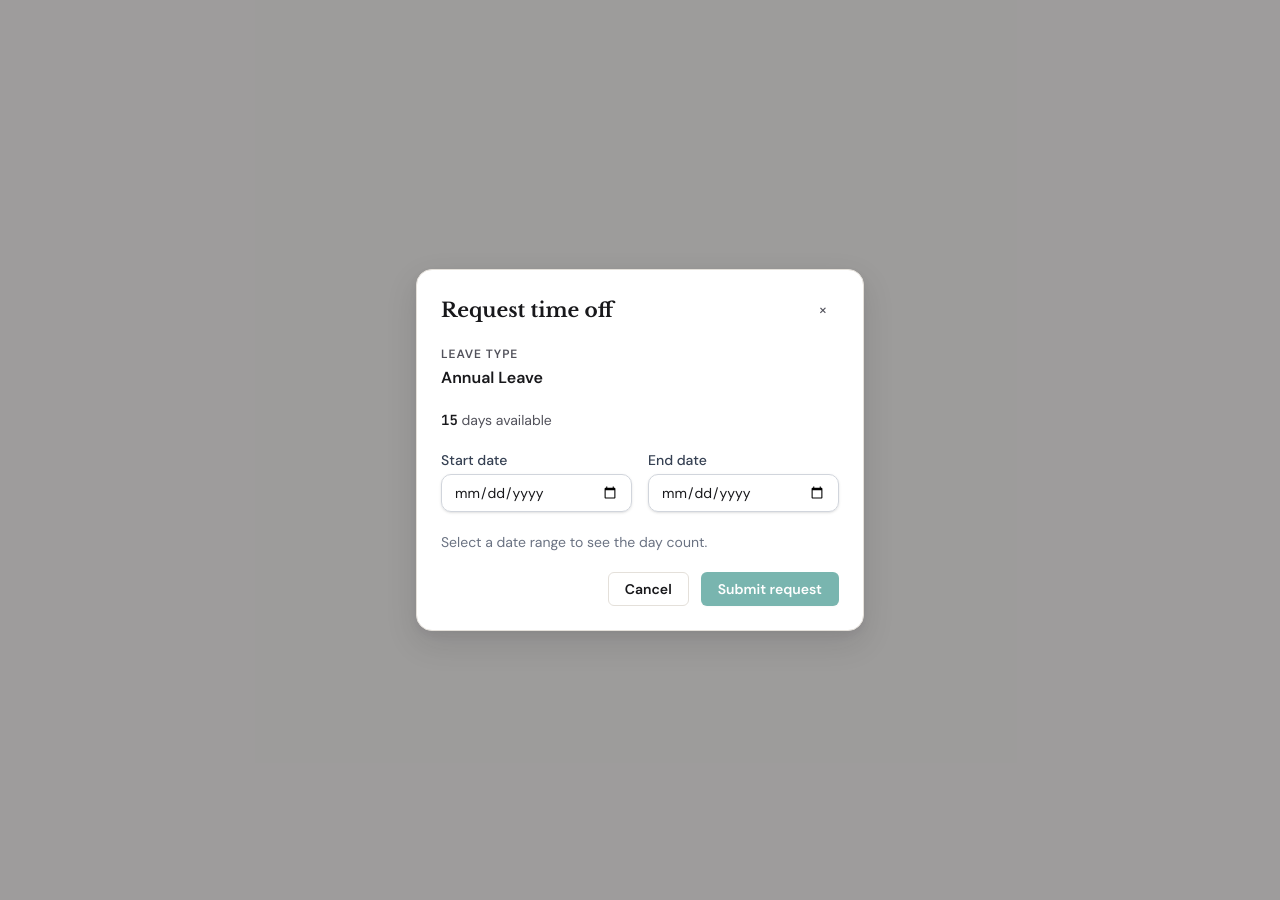
Test: RequestModal › submit button is disabled when days exceed available balance (Gap B pre-validation)
Type "2026-06-01" into the date field labelled "Start date" at (536, 493), box left=441, top=474, right=632, bottom=512
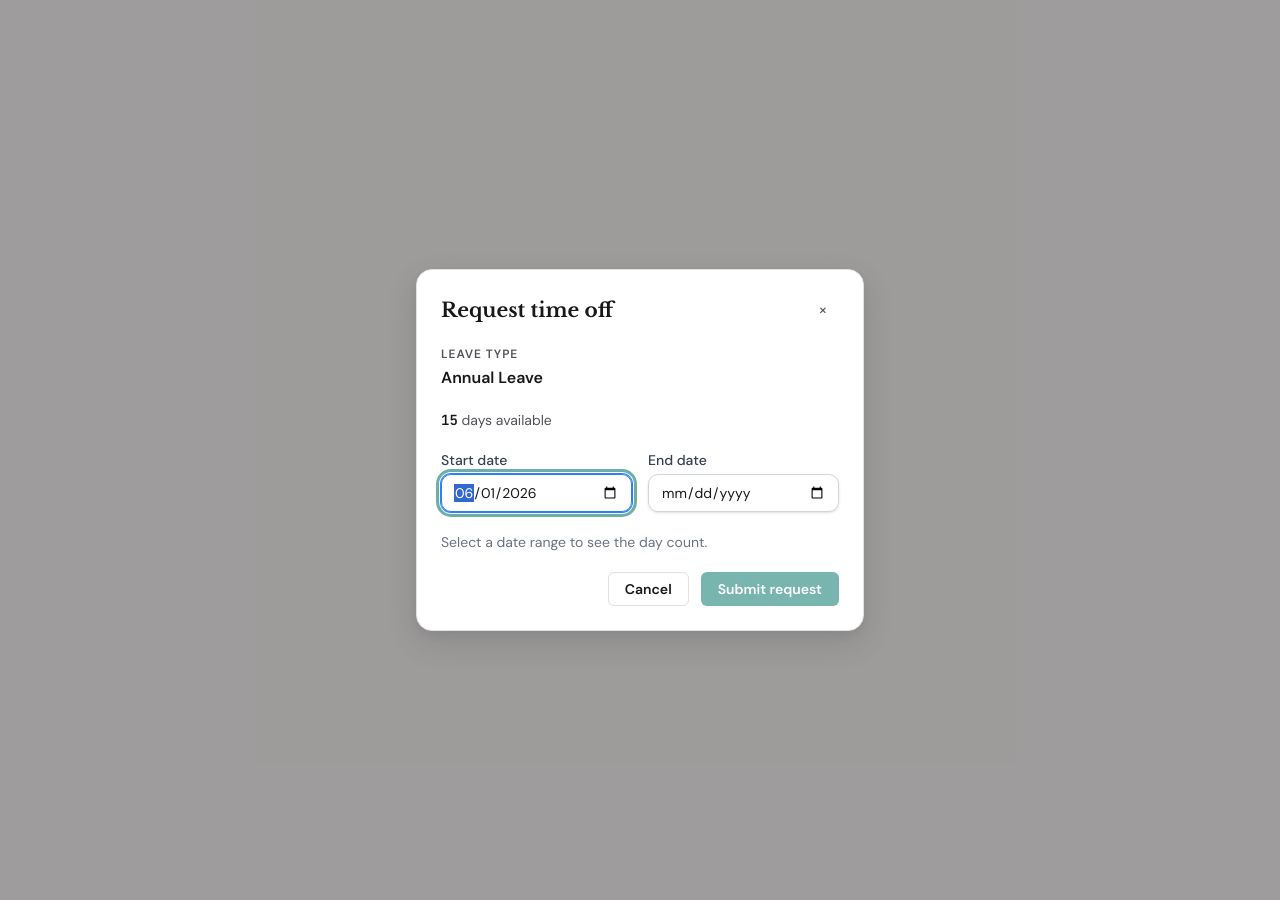
Type "2026-06-30" into the date field labelled "End date" at (744, 493), box left=648, top=474, right=839, bottom=512
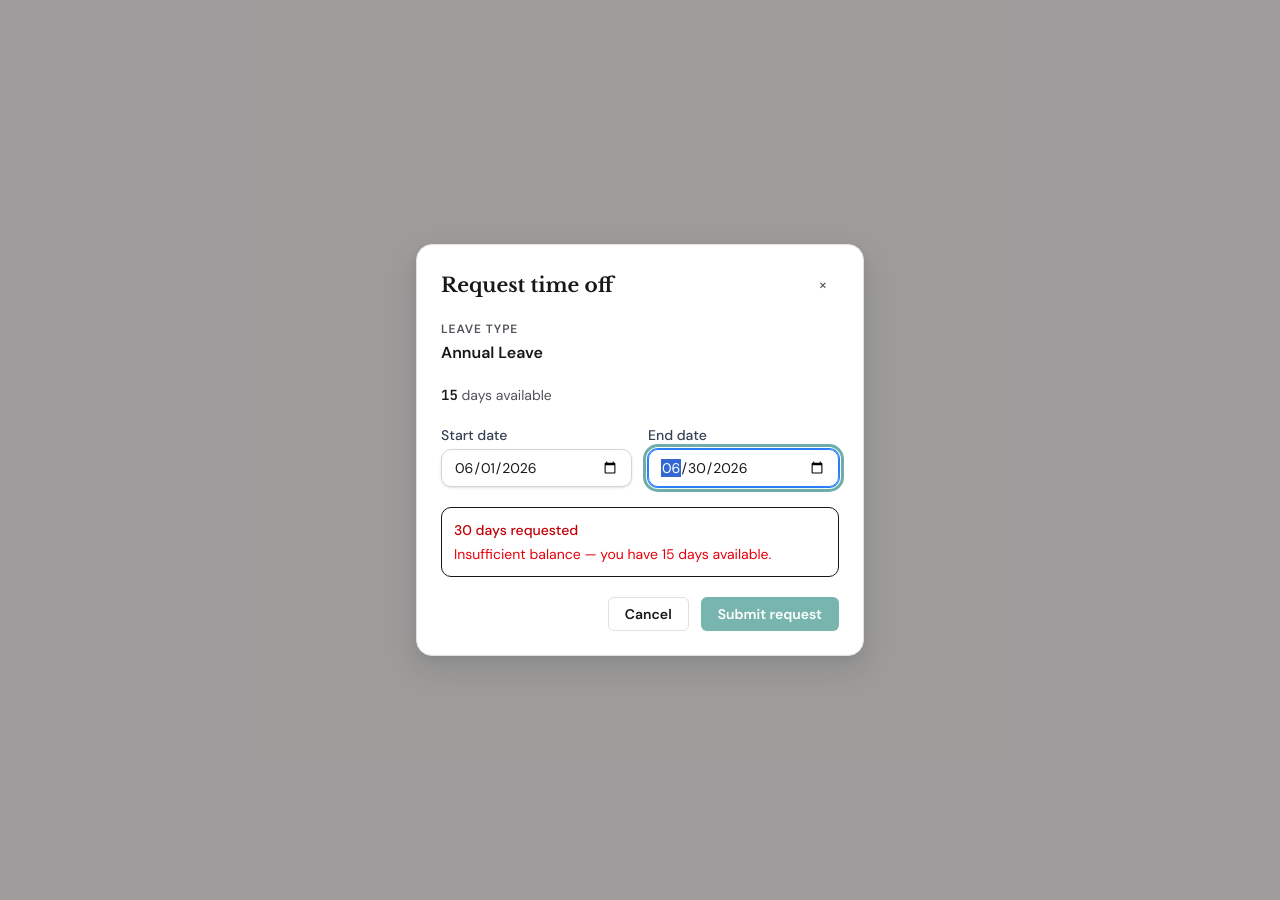
Expected: the button "Submit request" is disabled, left=701, top=597, right=839, bottom=631
Expected: the text "Insufficient balance — you have 15 days available." is shown, left=454, top=544, right=826, bottom=564
